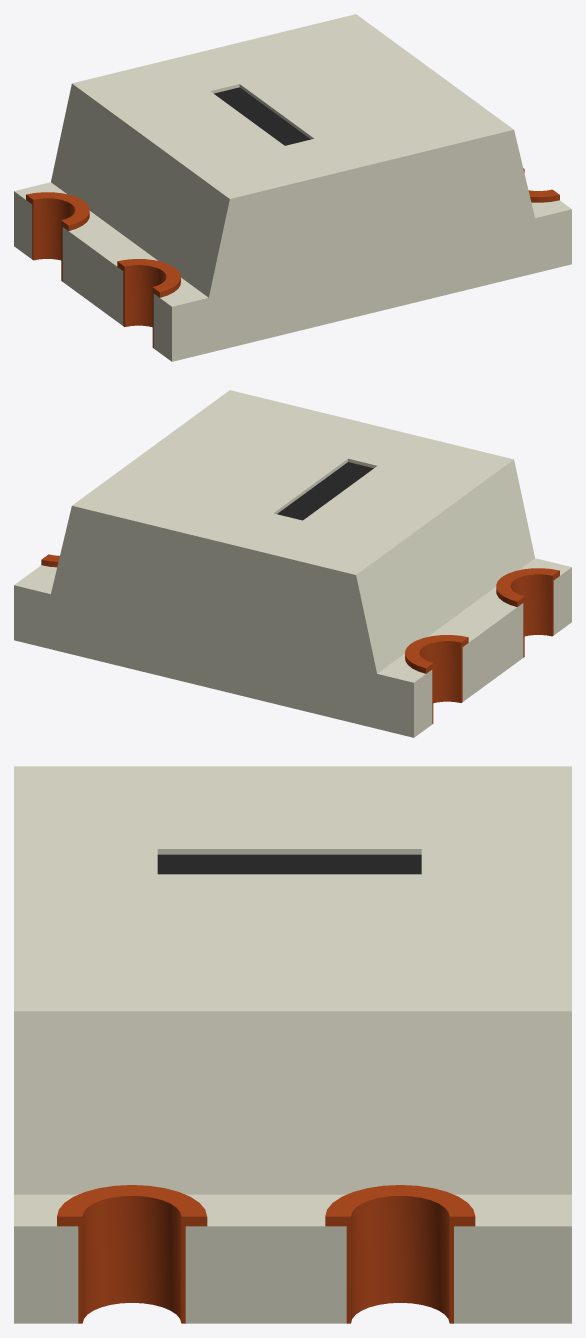
Rendered from kc-ams_tsl2550_smd.glb.
3 views of the same model, one above another, from view 1: azimuth 30°, elevation 25°; view 2: azimuth 150°, elevation 25°; view 3: azimuth 270°, elevation 25° (orthographic). The views are drawn at different scales.
Parts seen in each view (by area): view 1: 0.75_0.75_0.6666666666666666_0, 0.4166666666666667_0.08333333333333333_0_0, 0_0_0_0; view 2: 0.75_0.75_0.6666666666666666_0, 0.4166666666666667_0.08333333333333333_0_0, 0_0_0_0; view 3: 0.75_0.75_0.6666666666666666_0, 0.4166666666666667_0.08333333333333333_0_0, 0_0_0_0.
Boxes of the visible parts, x1,y1,x2,y2 form: 0.75_0.75_0.6666666666666666_0: (14, 14, 571, 361); 0.4166666666666667_0.08333333333333333_0_0: (26, 168, 559, 347); 0_0_0_0: (214, 87, 310, 145); 0.75_0.75_0.6666666666666666_0: (14, 390, 571, 737); 0.4166666666666667_0.08333333333333333_0_0: (41, 554, 559, 723); 0_0_0_0: (277, 462, 373, 520); 0.75_0.75_0.6666666666666666_0: (14, 766, 571, 1323); 0.4166666666666667_0.08333333333333333_0_0: (57, 1185, 475, 1323); 0_0_0_0: (157, 854, 421, 874).
Bounding box in the file's own units: 0.38 × 0.135 × 0.26.
